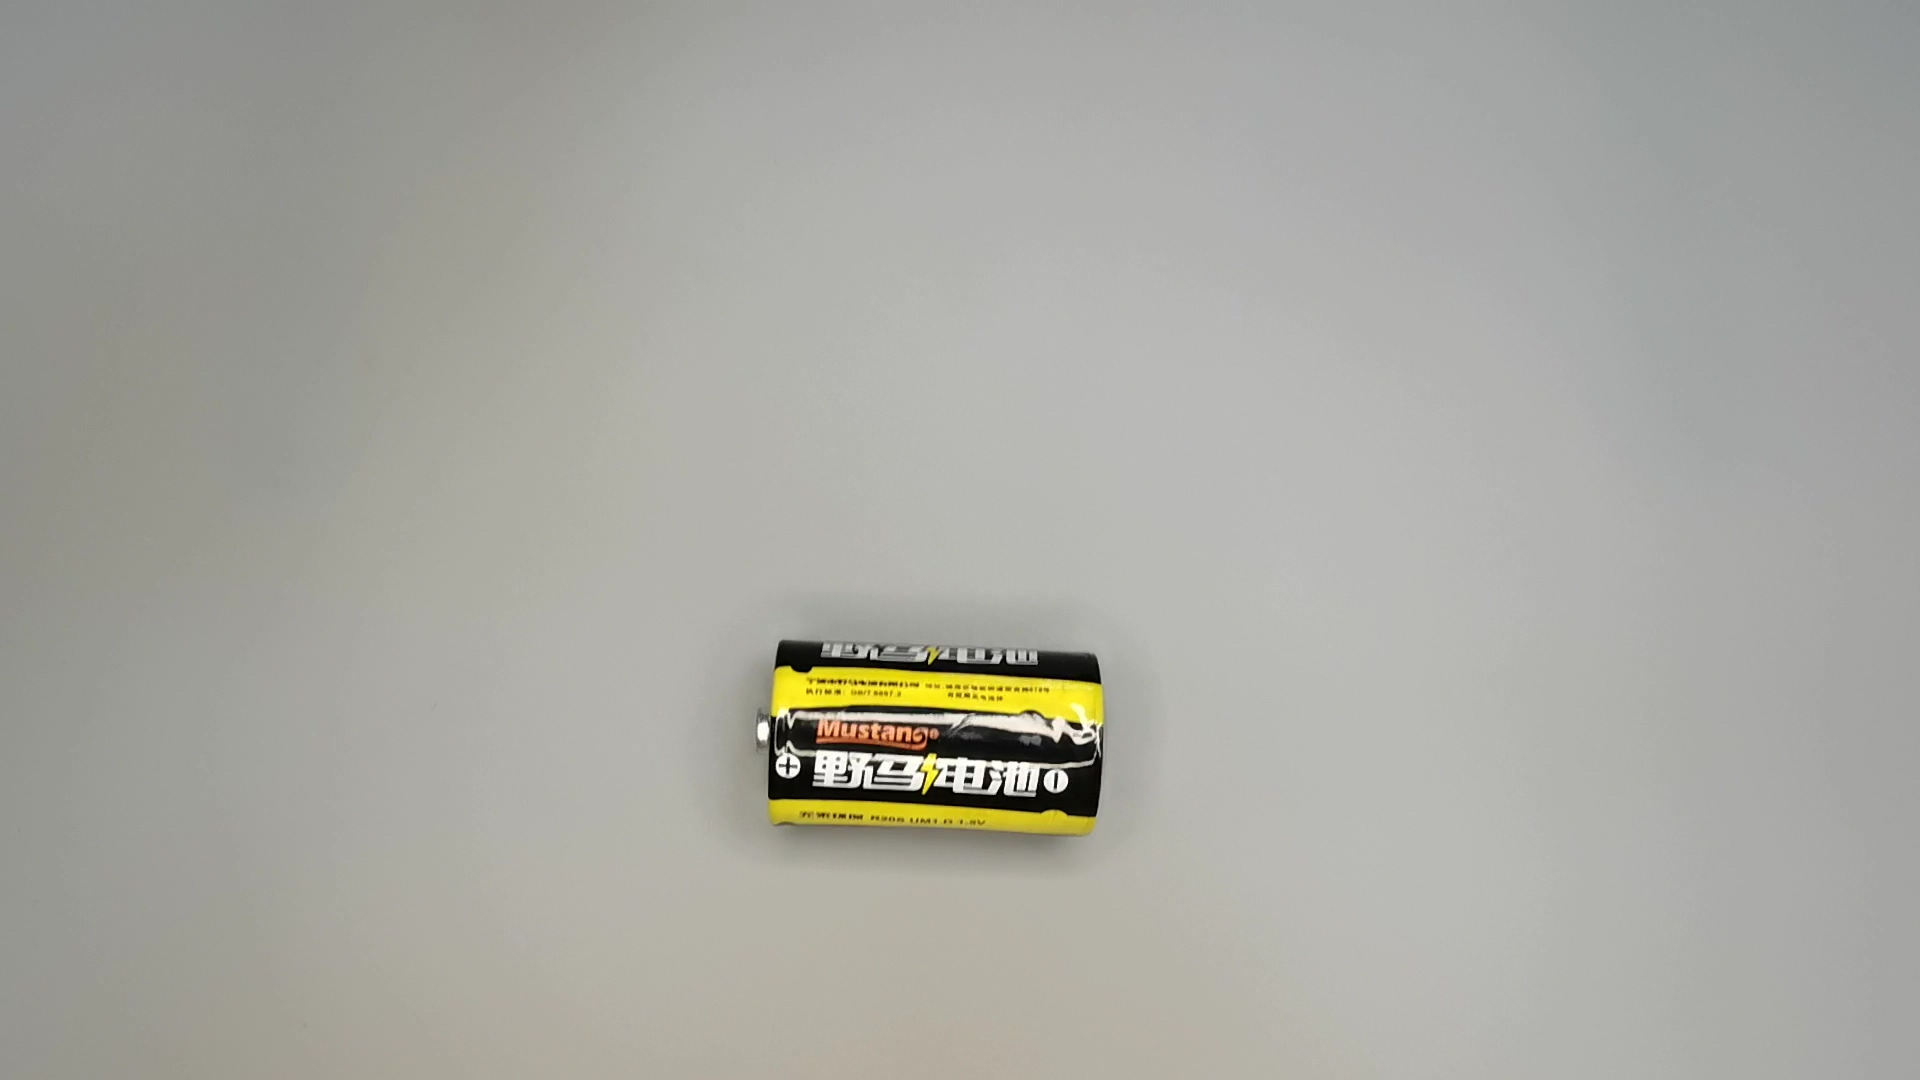battery: (756, 632, 1112, 847)
